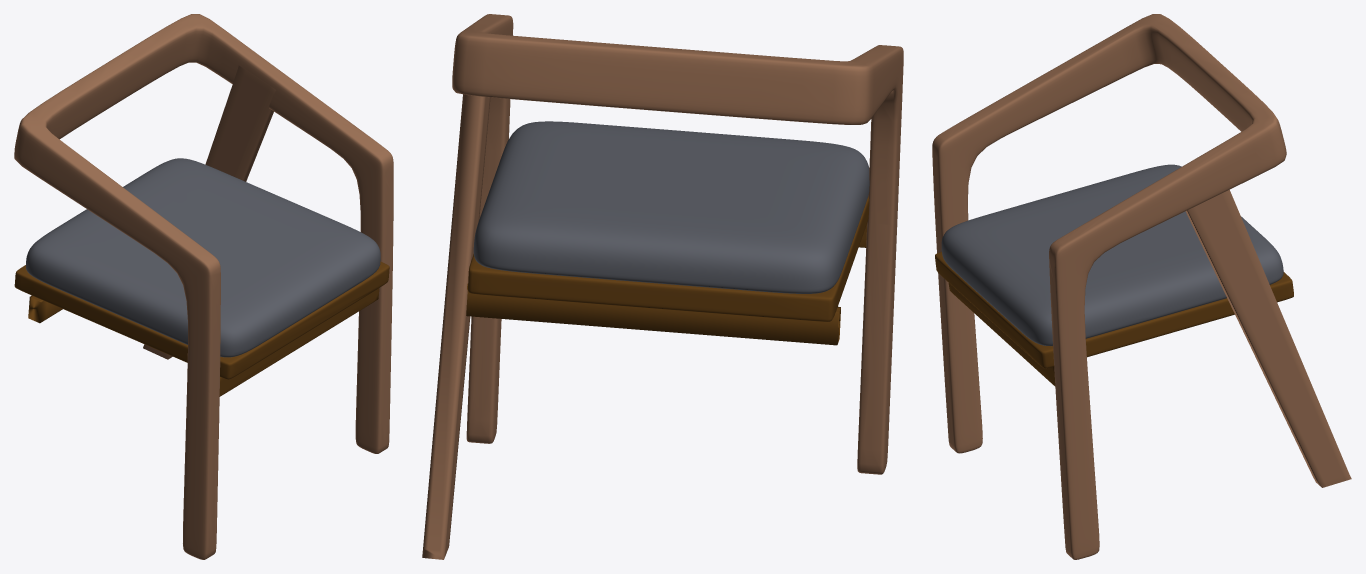
The model's file is chair.glb.
The picture shows the model from 3 angles, left to right: view 1: azimuth 30°, elevation 25°; view 2: azimuth 150°, elevation 25°; view 3: azimuth 270°, elevation 25°; orthographic projection. The views are drawn at different scales.
Visible parts, largest first — view 1: Cube.089, Cube.090, Cube.087; view 2: Cube.089, Cube.090, Cube.087; view 3: Cube.089, Cube.090, Cube.087.
Boxes of the visible parts, x1=… form: Cube.089: x1=14, y1=14, x2=393, y2=559; Cube.090: x1=26, y1=158, x2=380, y2=357; Cube.087: x1=14, y1=261, x2=389, y2=396; Cube.089: x1=422, y1=14, x2=903, y2=559; Cube.090: x1=473, y1=121, x2=869, y2=293; Cube.087: x1=466, y1=196, x2=869, y2=345; Cube.089: x1=932, y1=14, x2=1351, y2=559; Cube.090: x1=941, y1=164, x2=1283, y2=346; Cube.087: x1=935, y1=252, x2=1293, y2=386.
Bounding box in the file's own units: 5.34 × 6.08 × 5.73.
